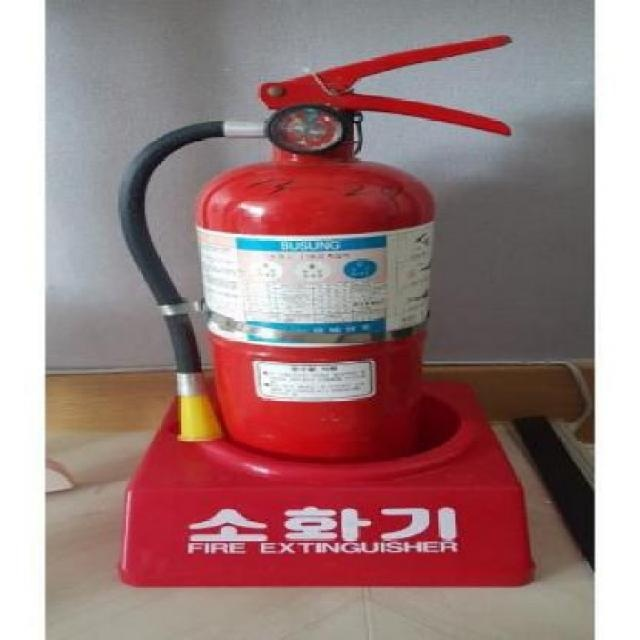fire extinguisher: (116, 34, 516, 461)
